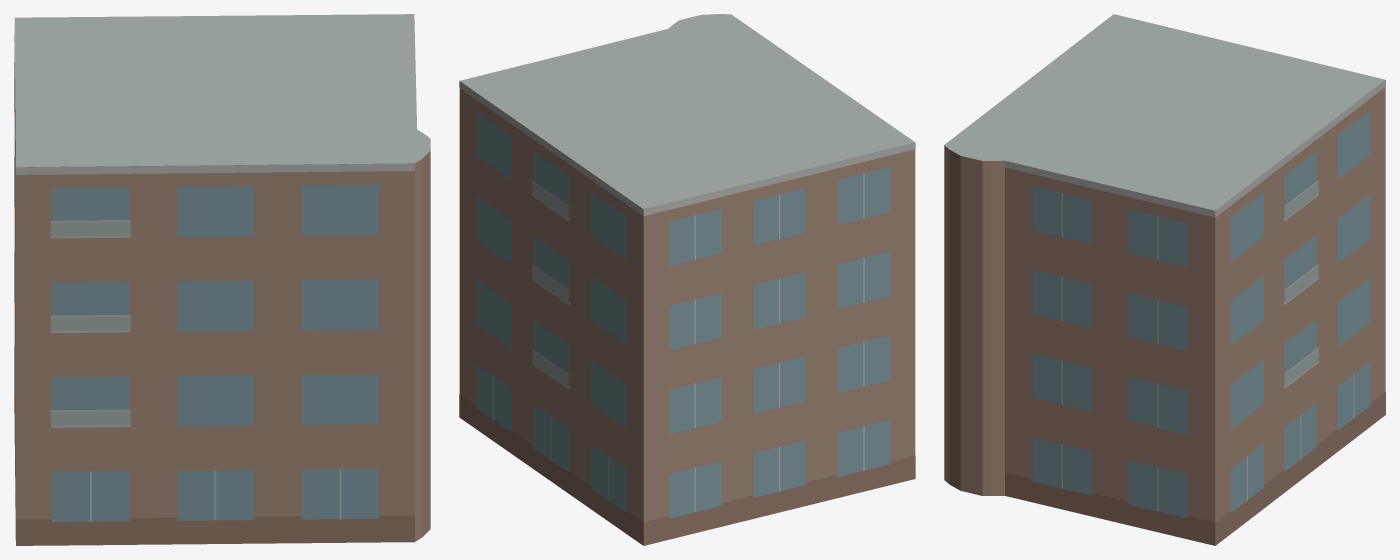
File: survey-upis-32931903.glb
The picture shows the model from 3 angles, left to right: view 1: azimuth 30°, elevation 25°; view 2: azimuth 150°, elevation 25°; view 3: azimuth 270°, elevation 25°; orthographic projection. The views are drawn at different scales.
Parts seen in each view (by area): view 1: survey-upis-32931903.tmp; view 2: survey-upis-32931903.tmp; view 3: survey-upis-32931903.tmp.
Boxes of the visible parts, x1,y1,x2,y2 form: survey-upis-32931903.tmp: (14, 14, 430, 545); survey-upis-32931903.tmp: (459, 14, 915, 545); survey-upis-32931903.tmp: (944, 14, 1385, 545).
Bounding box in the file's own units: 15.06 × 11.95 × 14.28.
